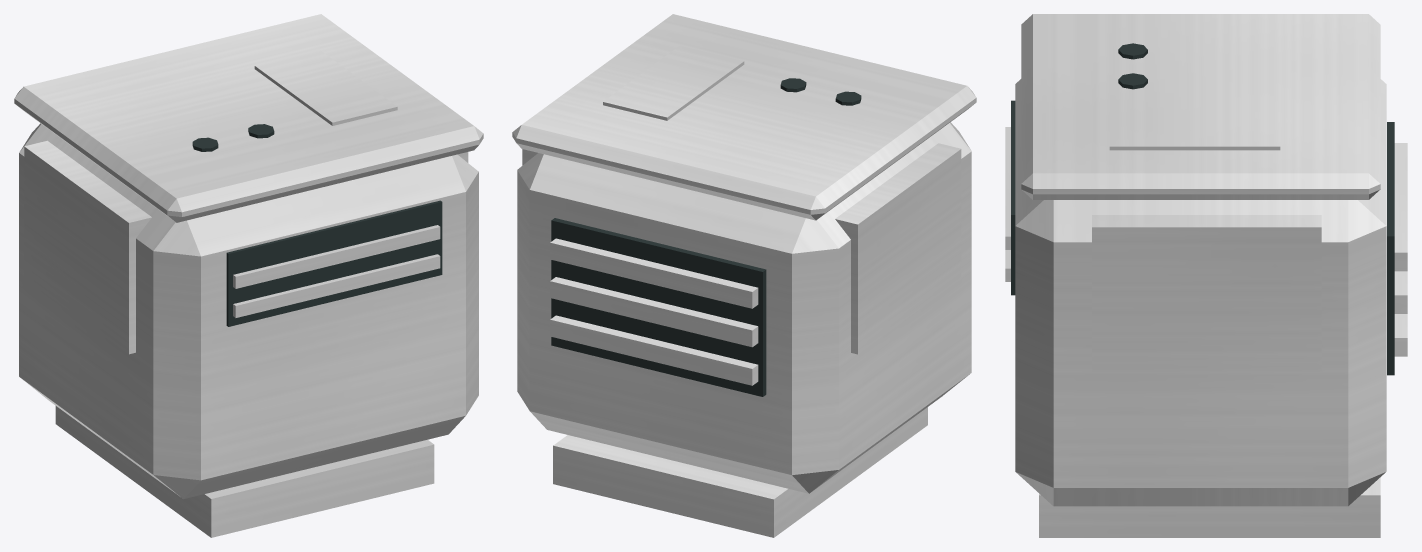
Rendered from sleep_accelerator.obj.
The picture shows the model from 3 angles, left to right: view 1: azimuth 30°, elevation 25°; view 2: azimuth 150°, elevation 25°; view 3: azimuth 270°, elevation 25°; orthographic projection. The views are drawn at different scales.
Visible parts, largest first — view 1: sleep_accelerator; view 2: sleep_accelerator; view 3: sleep_accelerator.
Part boxes in pixels (x1,y1,x2,y2): sleep_accelerator: [14, 14, 483, 537]; sleep_accelerator: [512, 14, 976, 537]; sleep_accelerator: [1005, 14, 1407, 537].
Bounding box in the file's own units: 0.73 × 0.728 × 0.683.
